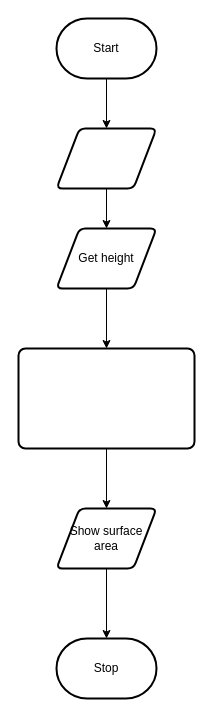
This 212x716 diagram has some shape labels left out. Here are the shapes that lost their labels. From the top down, the box of each, then its label:
(55, 127, 157, 189): Get radius
(17, 347, 195, 449): surface_area = 2 * math.pi * radius * height + 2 * math.pi * (radius**2)
